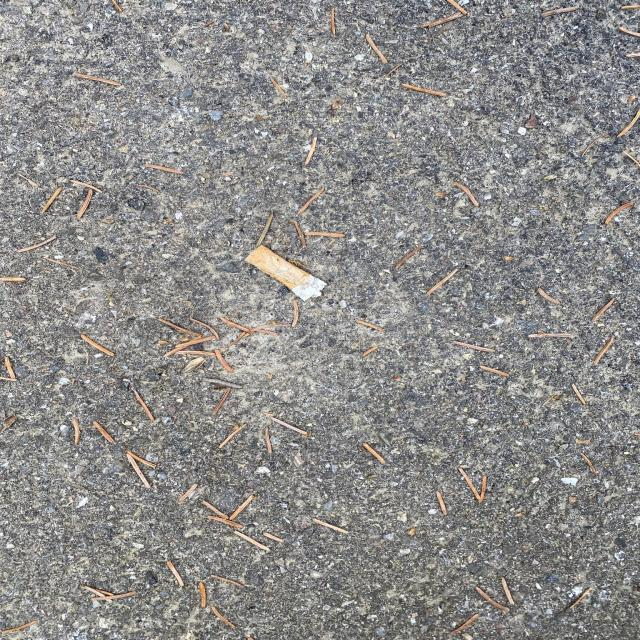other waste: (244, 245, 328, 301)
